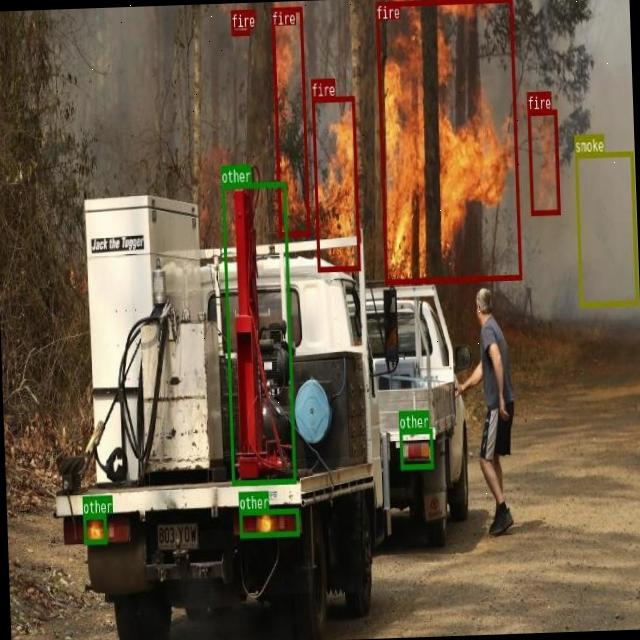fire: (375, 0, 522, 284), (270, 6, 309, 236), (310, 95, 360, 271), (526, 108, 560, 215), (230, 9, 249, 34)
smoke: (574, 150, 638, 306)
